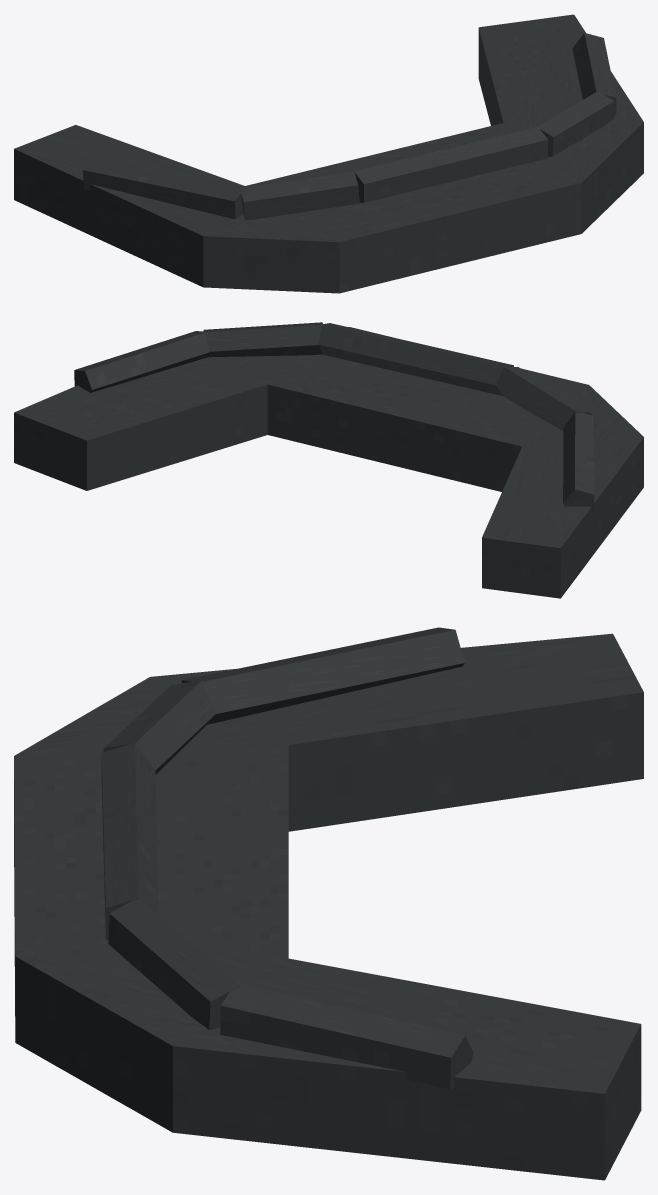
File: plastic_chin_guard.glb
The picture shows the model from 3 angles, top to bottom: view 1: azimuth 30°, elevation 25°; view 2: azimuth 150°, elevation 25°; view 3: azimuth 270°, elevation 25°; orthographic projection. The views are drawn at different scales.
Visible parts, largest first — view 1: block_curved protective guard, block_raised binding 2, block_raised binding 0, block_raised binding 1, block_raised binding 3, block_raised binding 4; view 2: block_curved protective guard, block_raised binding 2, block_raised binding 4, block_raised binding 3, block_raised binding 0, block_raised binding 1; view 3: block_curved protective guard, block_raised binding 4, block_raised binding 0, block_raised binding 2, block_raised binding 3, block_raised binding 1.
Boxes of the visible parts, x1=… form: block_curved protective guard: x1=14, y1=14, x2=643, y2=293; block_raised binding 2: x1=354, y1=127, x2=548, y2=202; block_raised binding 0: x1=83, y1=157, x2=242, y2=219; block_raised binding 1: x1=240, y1=171, x2=359, y2=219; block_raised binding 3: x1=537, y1=91, x2=614, y2=156; block_raised binding 4: x1=572, y1=33, x2=616, y2=115; block_curved protective guard: x1=14, y1=327, x2=643, y2=598; block_raised binding 2: x1=318, y1=323, x2=513, y2=395; block_raised binding 4: x1=74, y1=331, x2=209, y2=392; block_raised binding 3: x1=203, y1=322, x2=322, y2=357; block_raised binding 0: x1=563, y1=411, x2=594, y2=513; block_raised binding 1: x1=496, y1=366, x2=591, y2=430; block_curved protective guard: x1=14, y1=633, x2=643, y2=1180; block_raised binding 4: x1=220, y1=984, x2=473, y2=1089; block_raised binding 0: x1=181, y1=627, x2=464, y2=724; block_raised binding 2: x1=101, y1=743, x2=158, y2=939; block_raised binding 3: x1=108, y1=897, x2=239, y2=1029; block_raised binding 1: x1=103, y1=680, x2=217, y2=774.
Size of the model in its own units: 0.0586 by 0.0084 by 0.0339.
Materials: 1 (1 with a texture image).
